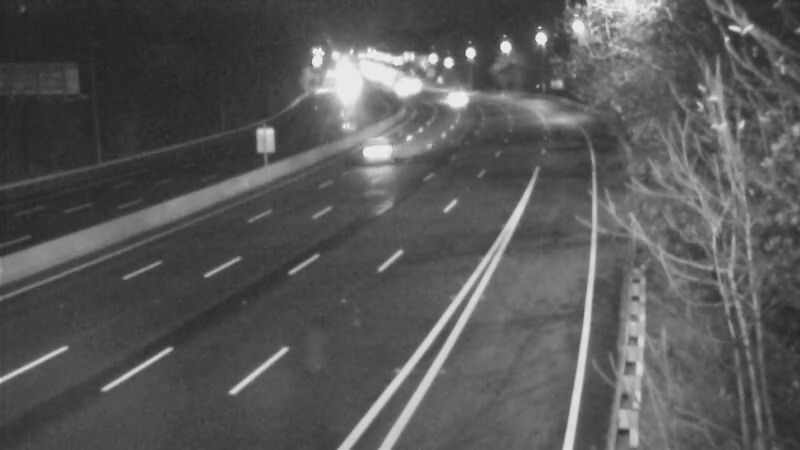vehicle: (429, 74, 479, 124), (353, 122, 403, 172)
